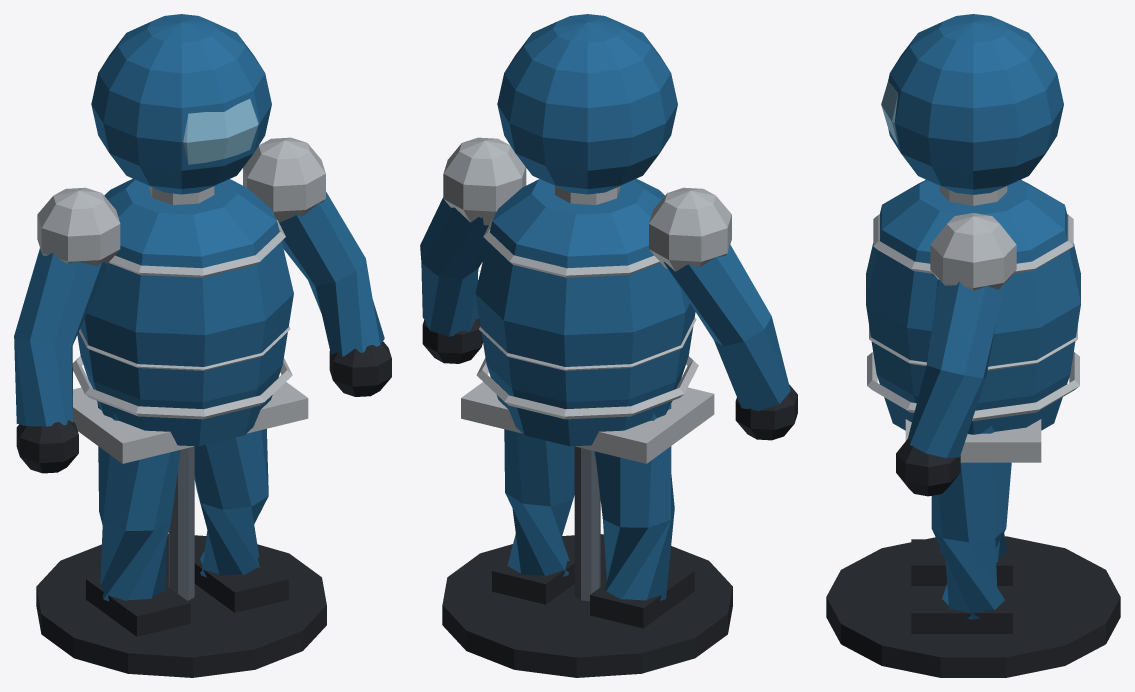
Rendered from water-suit.glb.
The picture shows the model from 3 angles, left to right: view 1: azimuth 30°, elevation 25°; view 2: azimuth 150°, elevation 25°; view 3: azimuth 270°, elevation 25°; orthographic projection.
Parts seen in each view (by area): view 1: m; view 2: m; view 3: m.
Boxes of the visible parts, x1,y1,x2,y2 form: m: (14, 14, 391, 677); m: (420, 14, 797, 677); m: (826, 14, 1120, 677).
Size of the model in its own units: 0.3641 by 0.56 by 0.251.
